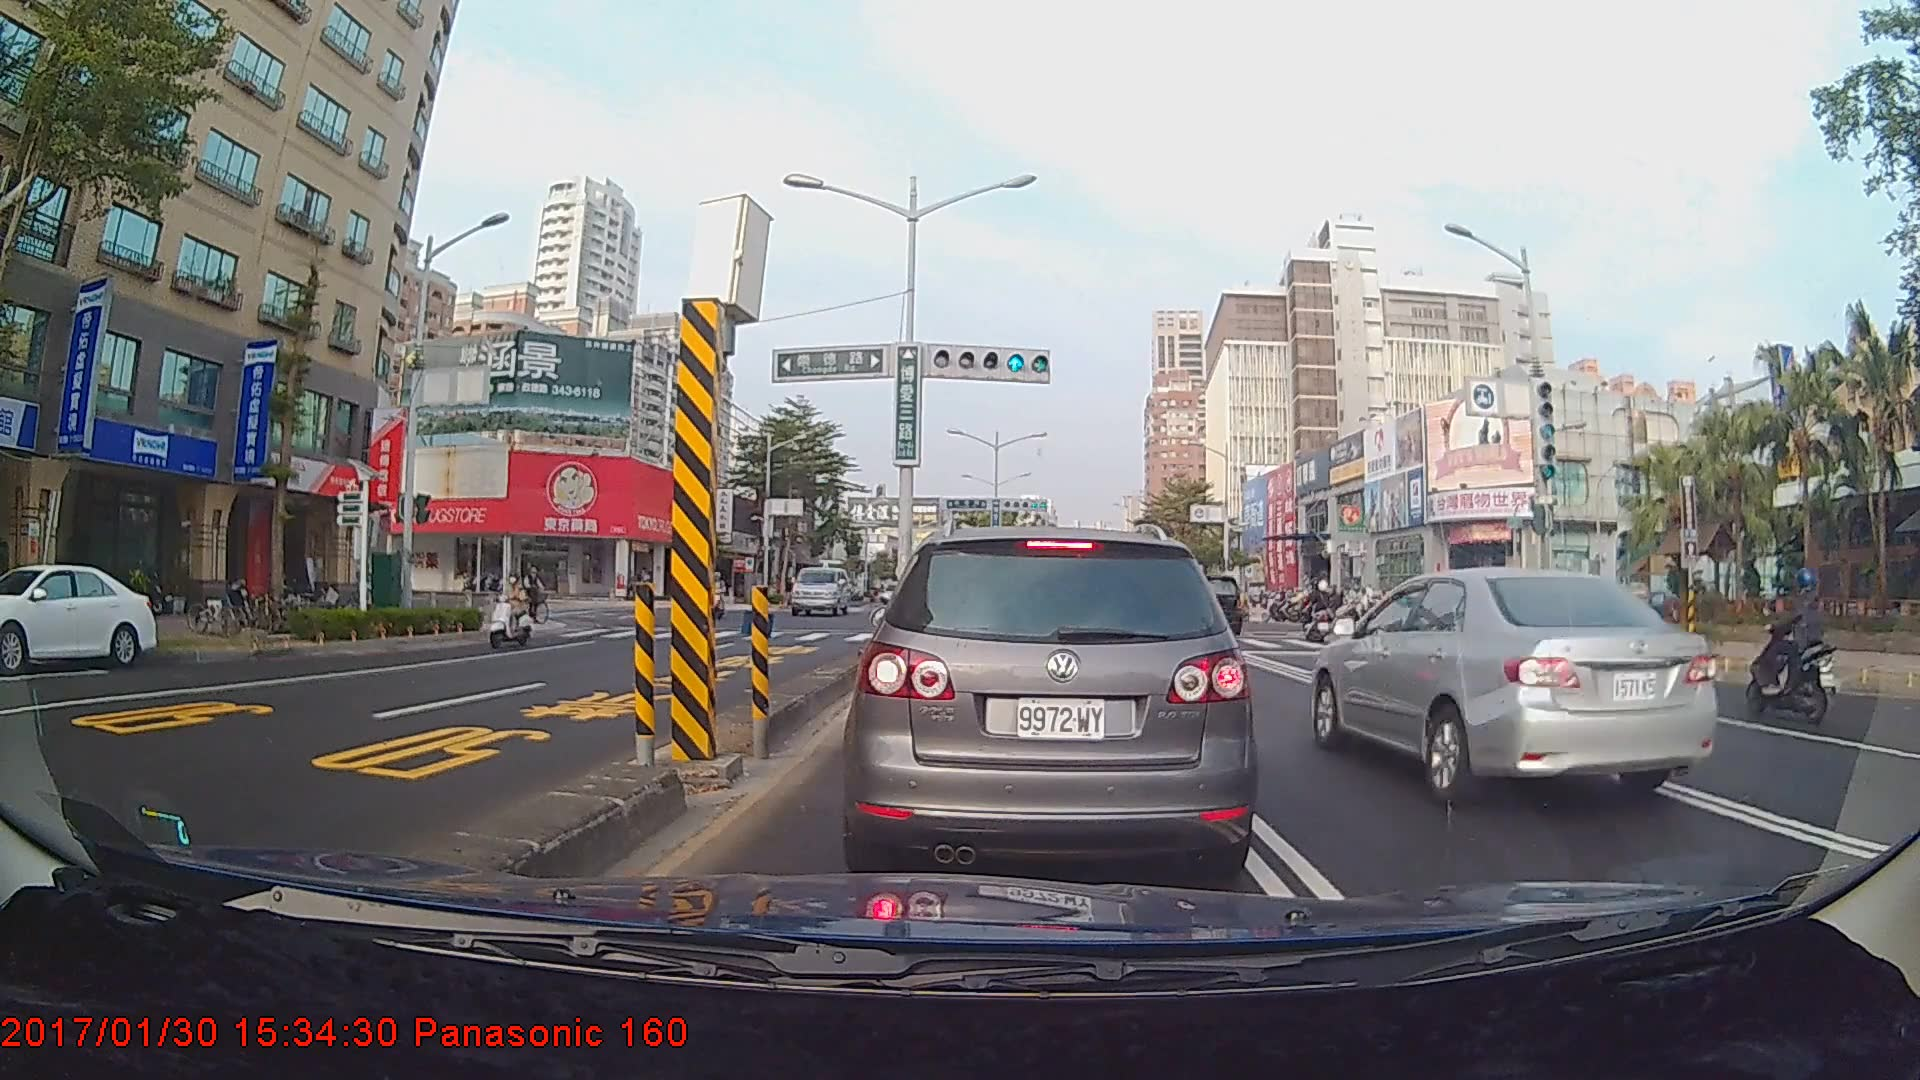rider: (1749, 565, 1841, 720), (483, 568, 544, 657), (518, 559, 561, 629)
vehicle: (856, 523, 1248, 877), (1305, 570, 1721, 808), (0, 561, 157, 671), (1174, 573, 1241, 634), (790, 565, 851, 617)
